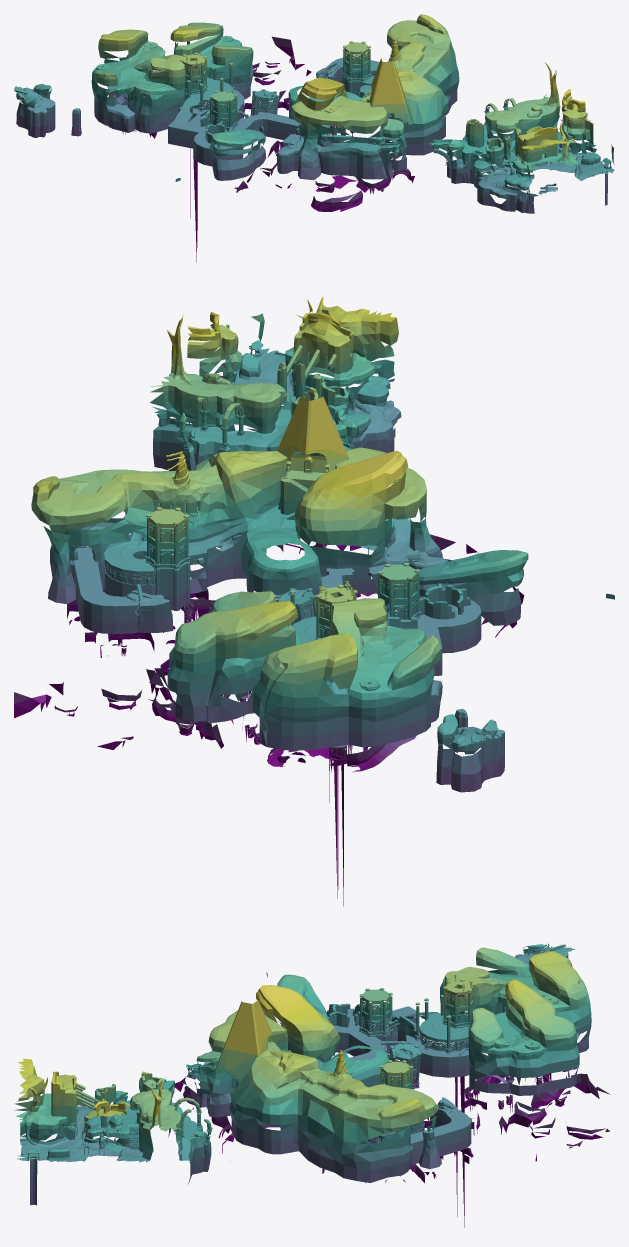
3 renders of one model, top to bottom at view 1: azimuth 30°, elevation 25°; view 2: azimuth 150°, elevation 25°; view 3: azimuth 270°, elevation 25°, orthographic. The views are drawn at different scales.
Parts seen in each view (by area): view 1: walls, floors; view 2: walls, floors; view 3: walls, floors.
Part boxes in pixels (box(x1,y1,x2,y2)): walls: box(14, 16, 614, 262); floors: box(14, 14, 614, 211); walls: box(14, 299, 614, 906); floors: box(32, 296, 614, 772); walls: box(14, 945, 610, 1227); floors: box(16, 943, 594, 1162).
Bounding box in the file's own units: 292 × 182 × 341.
